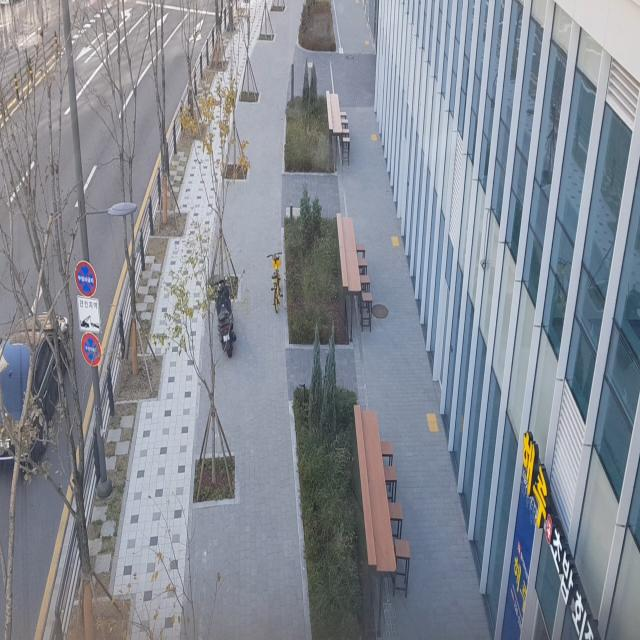Car: (0, 292, 79, 476)
